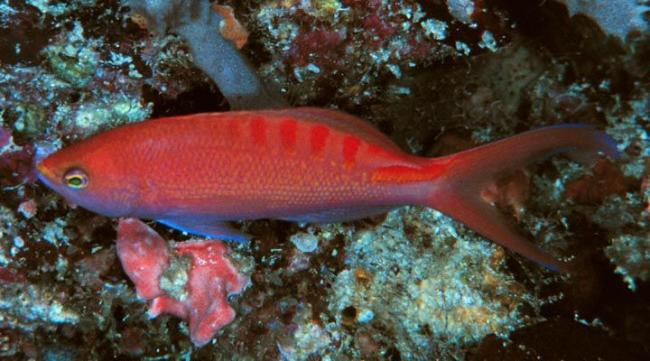fish: (37, 107, 618, 272)
